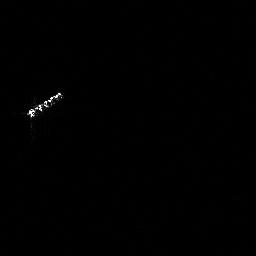ship: (23, 87, 67, 122)
